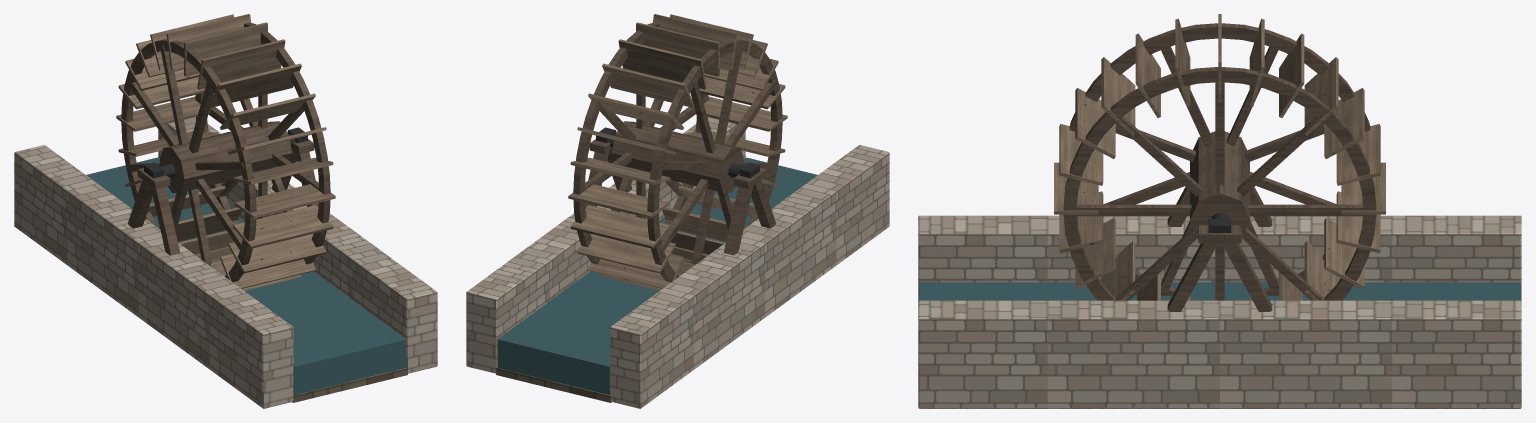
File: undershot-water-wheel.glb
3 views of the same model, side by side, from view 1: azimuth 30°, elevation 25°; view 2: azimuth 150°, elevation 25°; view 3: azimuth 270°, elevation 25° (orthographic). The views are drawn at different scales.
Visible parts, largest first — view 1: Undershot_Water_Wheel, Wheel; view 2: Undershot_Water_Wheel, Wheel; view 3: Undershot_Water_Wheel, Wheel.
Boxes of the visible parts, x1=… form: Undershot_Water_Wheel: x1=14, y1=117, x2=437, y2=408; Wheel: x1=116, y1=14, x2=335, y2=290; Undershot_Water_Wheel: x1=466, y1=117, x2=889, y2=408; Wheel: x1=568, y1=14, x2=787, y2=290; Undershot_Water_Wheel: x1=918, y1=187, x2=1521, y2=408; Wheel: x1=1054, y1=14, x2=1385, y2=300.
Bounding box in the file's own units: 3.4 × 4.93 × 8.4.
Materials: 6 (4 with a texture image).
